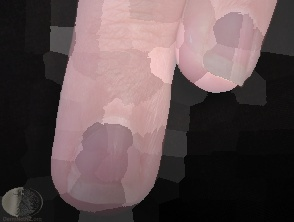Nail_psoriasis: (46, 80, 171, 221), (178, 0, 273, 92)
